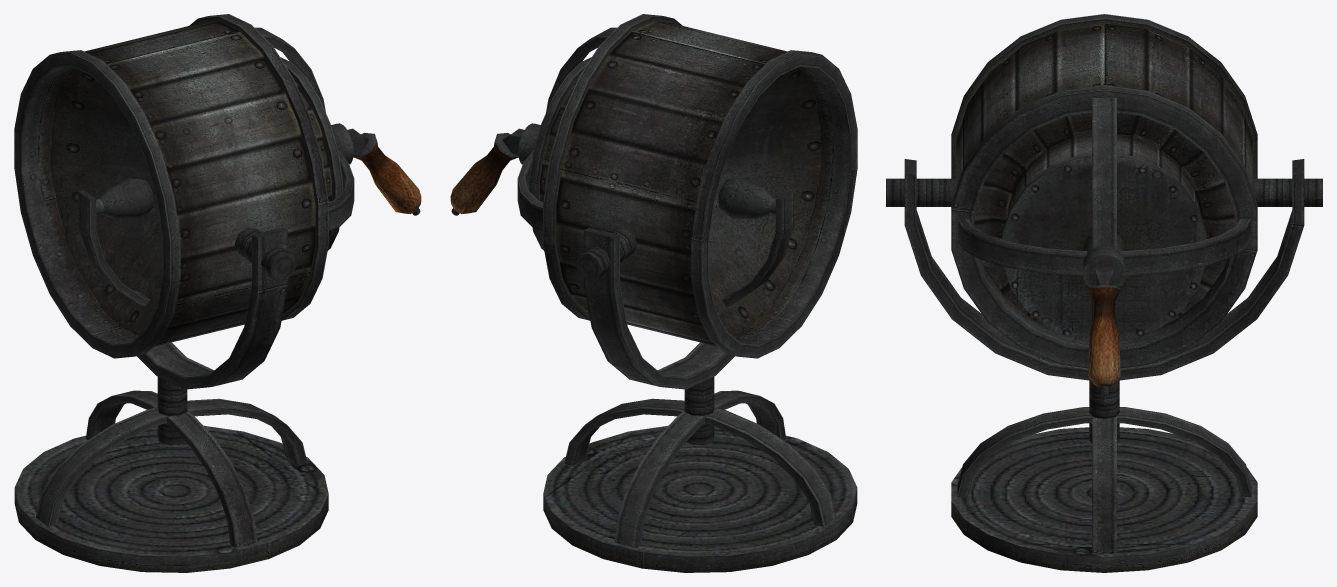
File: spotlight.DAE
The picture shows the model from 3 angles, left to right: view 1: azimuth 30°, elevation 25°; view 2: azimuth 150°, elevation 25°; view 3: azimuth 270°, elevation 25°; orthographic projection.
Visible parts, largest first — view 1: spotlight, spotlight_stand, spotlight_frame; view 2: spotlight, spotlight_stand, spotlight_frame; view 3: spotlight, spotlight_stand, spotlight_frame.
Boxes of the visible parts, box(x1,y1,x2,y2) form: spotlight: box(14, 14, 421, 358); spotlight_stand: box(14, 390, 328, 572); spotlight_frame: box(137, 227, 296, 444); spotlight: box(450, 14, 857, 358); spotlight_stand: box(543, 390, 857, 572); spotlight_frame: box(575, 227, 734, 444); spotlight: box(951, 14, 1257, 395); spotlight_stand: box(951, 407, 1257, 572); spotlight_frame: box(886, 159, 1322, 443).
Size of the model in its own units: 1.69 by 1.7 by 1.95.
